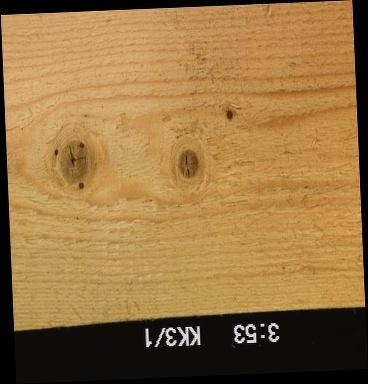dry_knot: (223, 107, 234, 122)
sound_knot: (53, 139, 91, 192), (176, 147, 200, 181)
